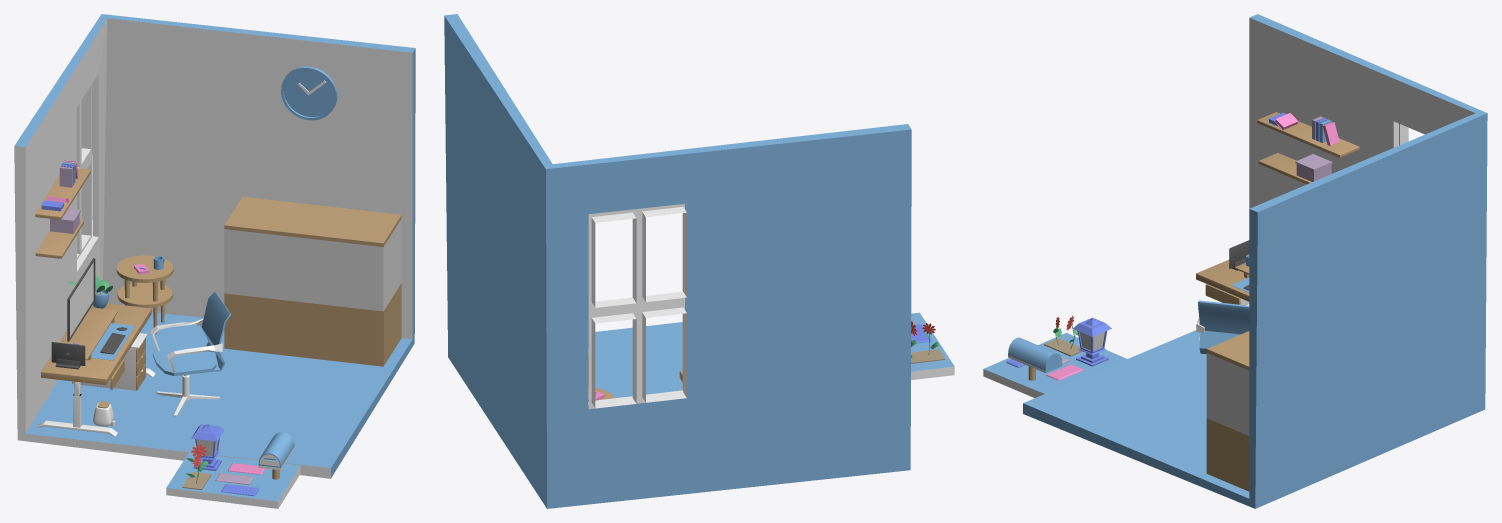
The model's file is Portfolio.glb.
3 renders of one model, left to right at view 1: azimuth 30°, elevation 25°; view 2: azimuth 150°, elevation 25°; view 3: azimuth 270°, elevation 25°, orthographic. The views are drawn at different scales.
Parts seen in each view (by area): view 1: Wall, FishTank, FishTank_Glass, Address.001, Table, Clock, Window_Bars, Chair_Seat, Table.002, Chair_Back, SideTable_Top, SideTable_Bottum (+13 smaller); view 2: Wall, Window_Bars, Address.001; view 3: Wall, FishTank, FishTank_Glass, Address.001, Chair_Back, Table.005, PostBox, Table, Adress_Lamp.001, Box, Table.004.
Part boxes in pixels (x1,y1,x2,y2): Wall: (14,14,415,478); FishTank: (224,196,401,366); FishTank_Glass: (224,219,401,311); Address.001: (166,453,300,508); Table: (41,303,151,385); Clock: (281,66,337,120); Window_Bars: (76,84,91,259); Chair_Seat: (152,343,216,375); Table.002: (62,307,117,360); Chair_Back: (201,292,231,371); SideTable_Top: (116,255,173,282); SideTable_Bottum: (117,282,172,307); Wall: (444,14,911,508); Window_Bars: (588,204,686,409); Address.001: (911,312,954,379); Wall: (1023,14,1487,508); FishTank: (1206,331,1249,491); FishTank_Glass: (1206,353,1249,435); Address.001: (983,333,1126,397); Chair_Back: (1198,300,1249,354); Table.005: (1257,112,1359,157); PostBox: (1008,337,1062,372); Table: (1196,259,1249,301); Adress_Lamp.001: (1073,317,1111,366); Box: (1295,154,1332,181); Table.004: (1258,153,1311,184).
Size of the model in its own units: 13.62 by 9.63 by 14.63.
